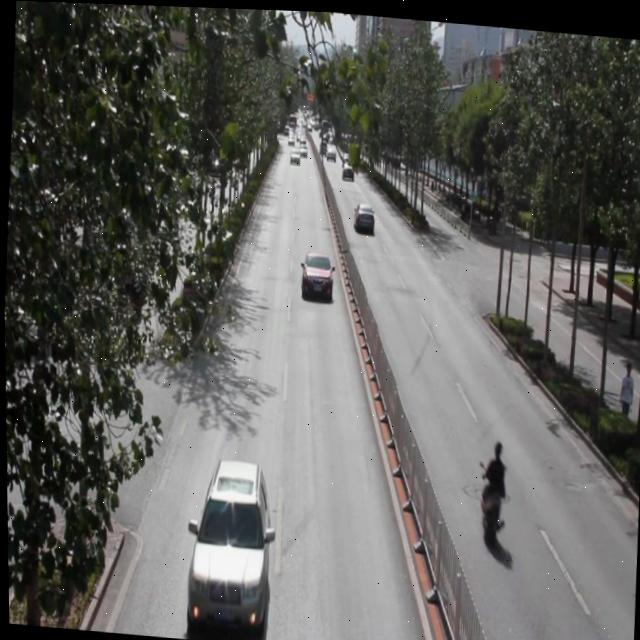car: (182, 455, 272, 624), (298, 250, 334, 303), (351, 200, 375, 232), (340, 158, 354, 178), (288, 146, 300, 164), (341, 149, 354, 165), (325, 140, 335, 159), (298, 141, 308, 157)
